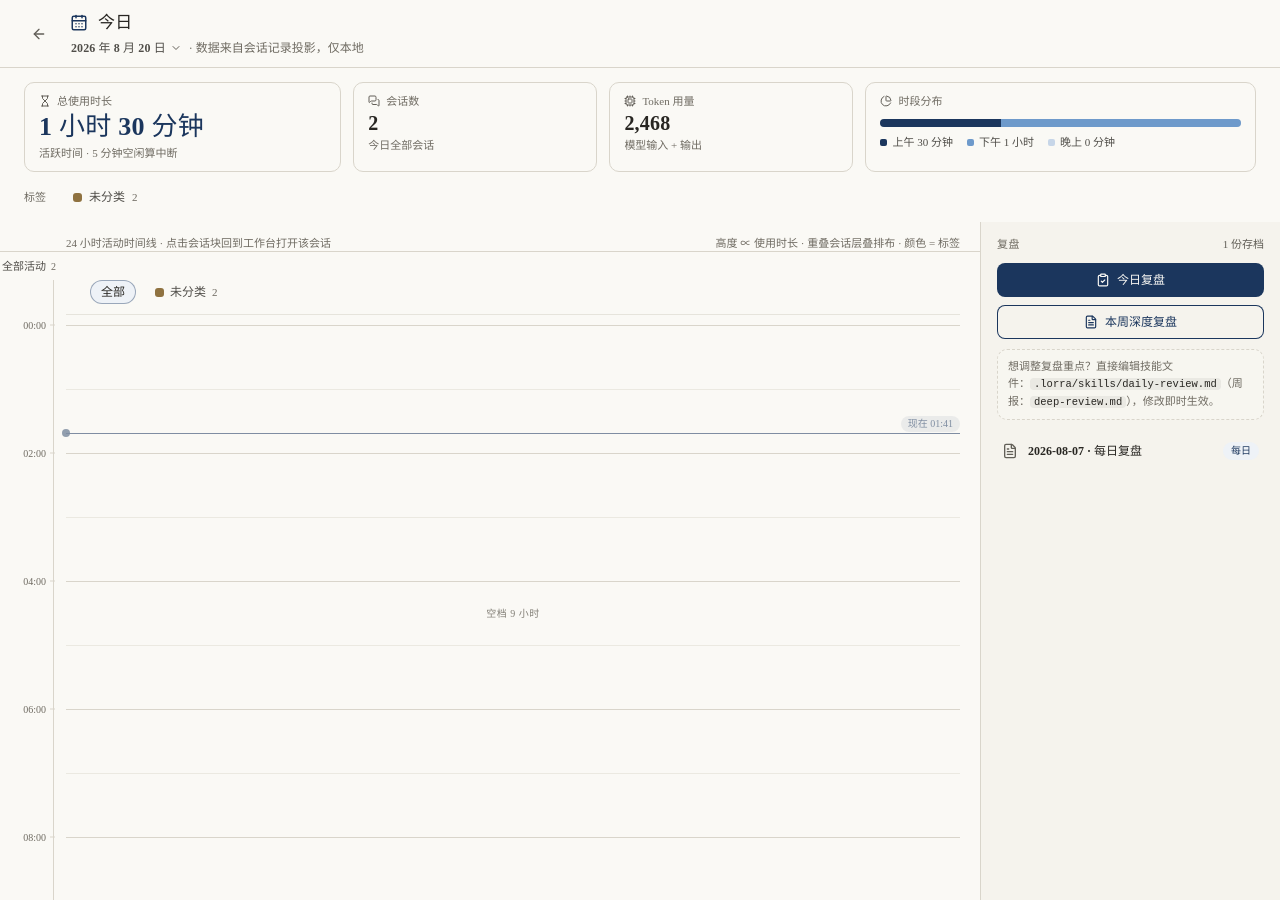
Test case: Requirement: 应用内阅读 › Scenario 打开历史报告:点击历史条目 → read(id) → 居中 modal 渲染 Markdown
What coordinates should you click on to do the following:
click the button with test id "review-item"
I would click on:
 (1130, 451)
Its box is x1=991 y1=432 x2=1270 y2=470.
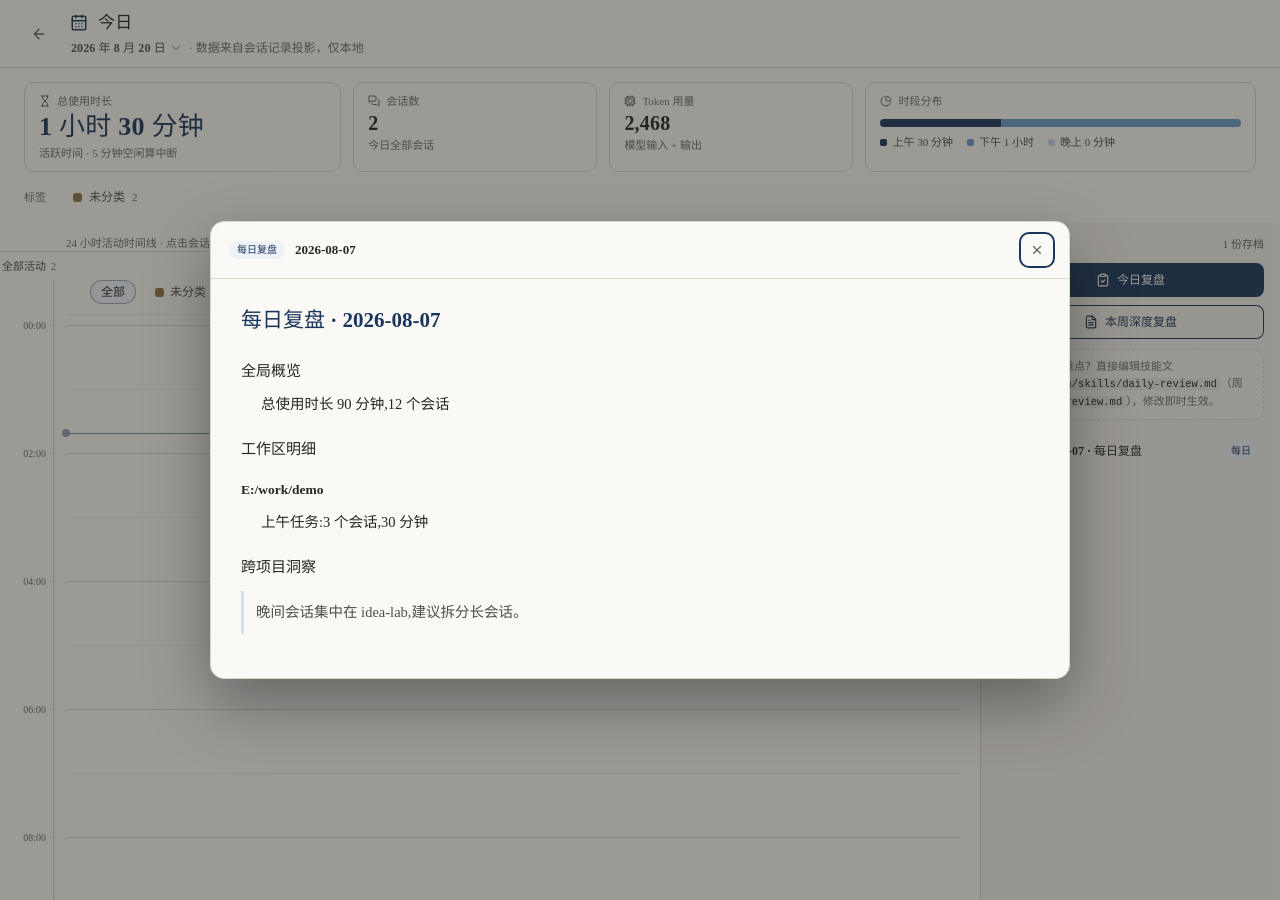
Expected: the heading "每日复盘 · 2026-08-07" is shown, x1=241 y1=308 x2=440 y2=332
Expected: the heading "全局概览" is shown, x1=241 y1=363 x2=301 y2=379
Expected: the heading "工作区明细" is shown, x1=241 y1=441 x2=316 y2=457
